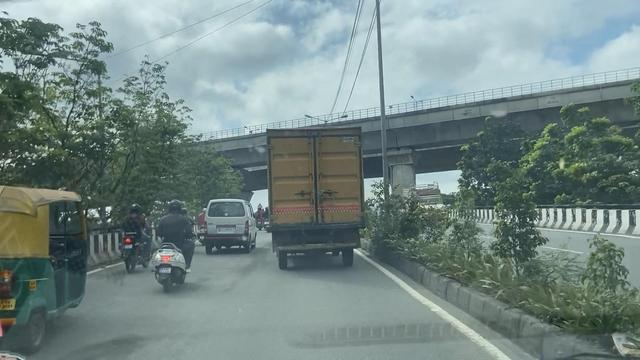HMV: (267, 129, 363, 266)
LMV: (0, 188, 89, 343), (154, 199, 197, 292), (202, 192, 253, 250), (121, 206, 144, 267)
